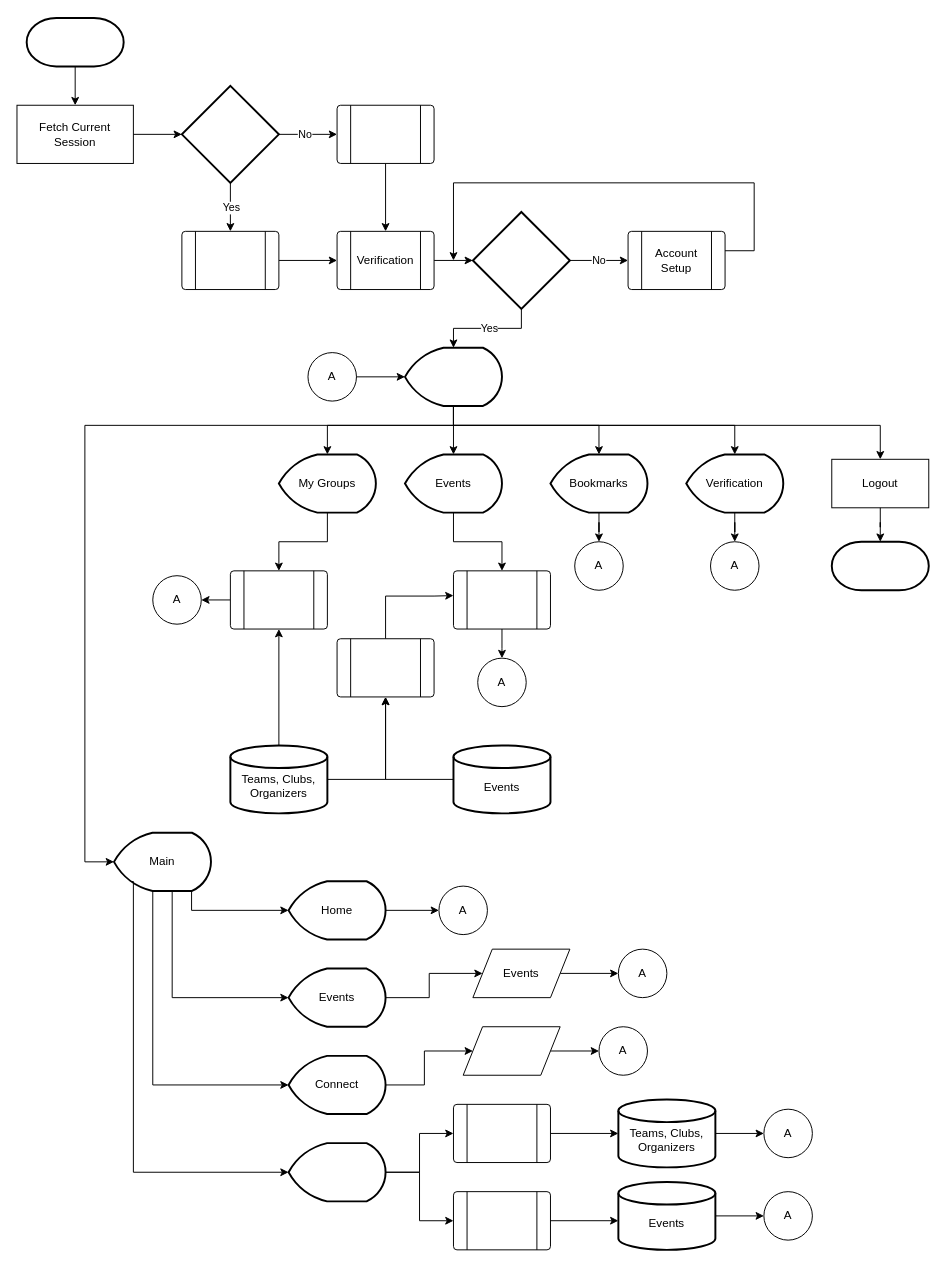
Image size: 947x1267. Some labels were removed from this diagram. The box of each missing label's shape, as (x1, y1, x2, y2) in pixels:
Application: (404, 346, 502, 406)
Create: (287, 1142, 386, 1202)
Create Account: (336, 104, 434, 163)
Create Event: (453, 1191, 550, 1250)
Create Group: (453, 1103, 550, 1163)
End: (830, 540, 929, 591)
Event Authorization: (336, 638, 434, 697)
Event Management: (453, 570, 550, 629)
Group Management: (229, 570, 327, 629)
Has Account?: (180, 84, 279, 183)
Has profile information?: (471, 210, 570, 309)
Profiles: (462, 1026, 560, 1075)
Sign In: (181, 230, 279, 290)
Start: (25, 16, 124, 67)
